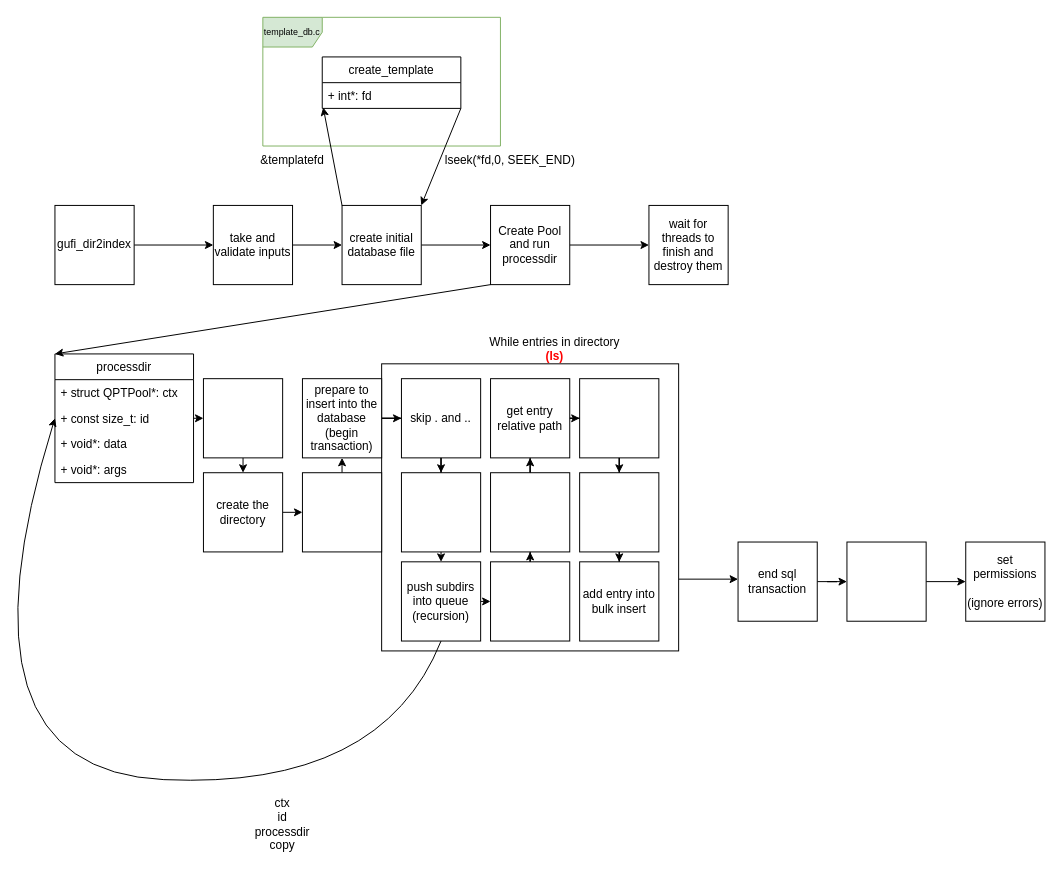
The diagram is 1062 pixels wide and 870 high, and some of its shapes have lost their labels. The centre of each missing label's shape, as x and y in pixels:
"Close and free everything" belongs at pixel 886 581.
"copy template file directly" belongs at pixel 341 512.
"get entries path and metadata" belongs at pixel 440 512.
"get source directory info" belongs at pixel 242 418.
"increment number of rows" belongs at pixel 530 601.
"overwrite full path with realitve path" belongs at pixel 619 418.
"store supported non dirs" belongs at pixel 530 512.
"update summary table" belongs at pixel 619 512.
